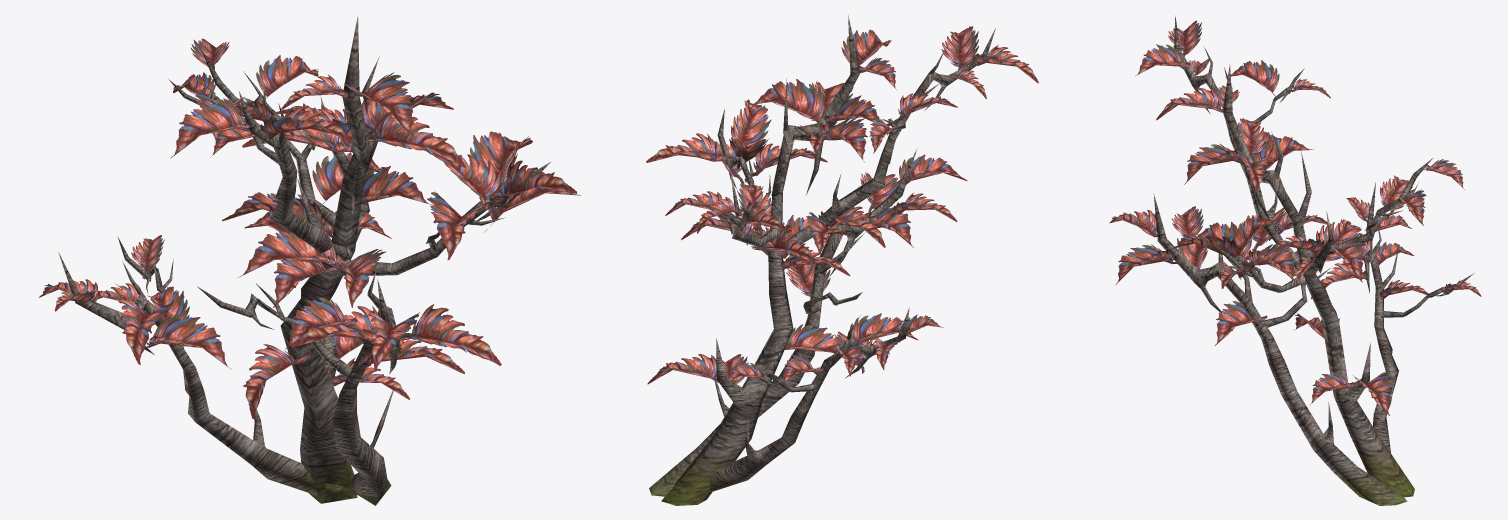
File: S_Tree_Red009.FBX
3 views of the same model, side by side, from view 1: azimuth 30°, elevation 25°; view 2: azimuth 150°, elevation 25°; view 3: azimuth 270°, elevation 25° (orthographic). The views are drawn at different scales.
Parts seen in each view (by area): view 1: S_Tree_Yellow048; view 2: S_Tree_Yellow048; view 3: S_Tree_Yellow048.
Boxes of the visible parts, bbox=[...] form: S_Tree_Yellow048: bbox=[39, 15, 580, 505]; S_Tree_Yellow048: bbox=[646, 15, 1038, 505]; S_Tree_Yellow048: bbox=[1109, 15, 1481, 505].
Size of the model in its own units: 574 by 618 by 672.
